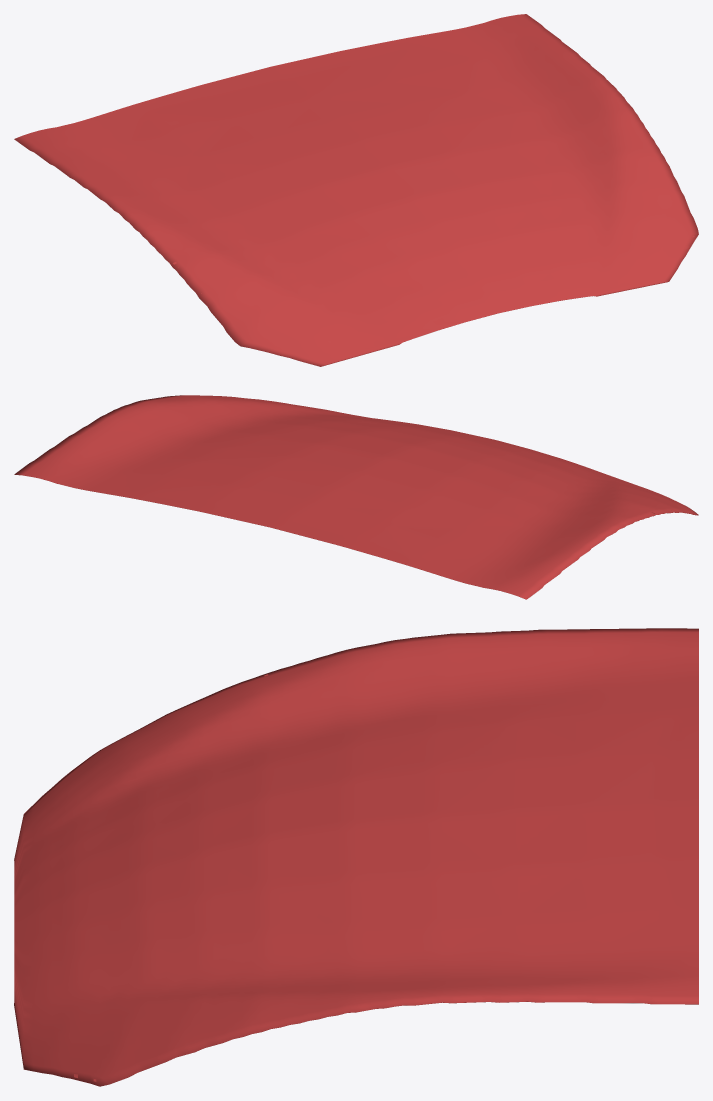
File: DT79_bonnet_wrap_accent.glb
3 renders of one model, top to bottom at view 1: azimuth 30°, elevation 25°; view 2: azimuth 150°, elevation 25°; view 3: azimuth 270°, elevation 25°, orthographic. The views are drawn at different scales.
Parts seen in each view (by area): view 1: MOD_ND_DT79_wrap; view 2: MOD_ND_DT79_wrap; view 3: MOD_ND_DT79_wrap.
Part boxes in pixels (box(x1,y1,x2,y2)): MOD_ND_DT79_wrap: box(14, 14, 698, 366); MOD_ND_DT79_wrap: box(14, 395, 698, 599); MOD_ND_DT79_wrap: box(14, 628, 698, 1086).
Bounding box in the file's own units: 1.42 × 0.2475 × 1.1.
